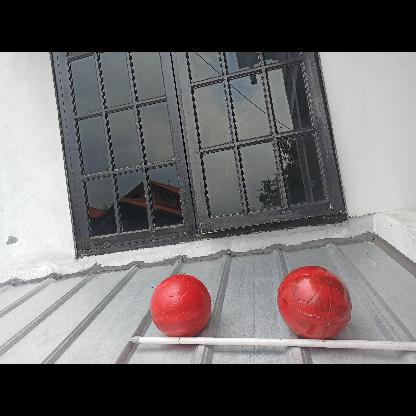red_ball: (277, 263, 351, 337), (151, 273, 211, 333)
